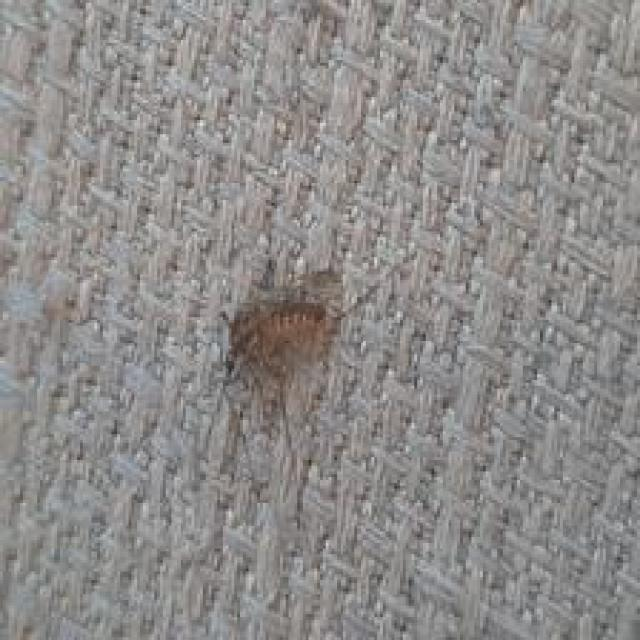Culex: (222, 259, 347, 390)
